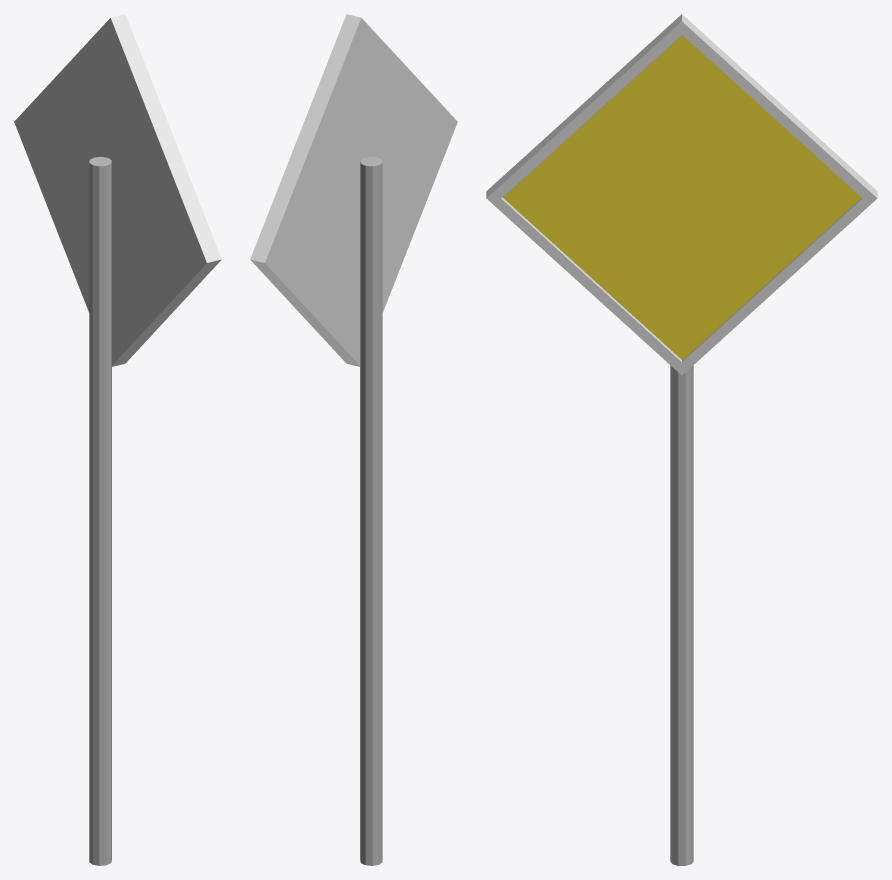
The model's file is Sign_Just_Add_Text__XD.fbx.
3 views of the same model, side by side, from view 1: azimuth 30°, elevation 25°; view 2: azimuth 150°, elevation 25°; view 3: azimuth 270°, elevation 25° (orthographic).
Visible parts, largest first — view 1: Cylinder.001; view 2: Cylinder.001; view 3: Cylinder.001.
Boxes of the visible parts, x1,y1,x2,y2 form: Cylinder.001: (14, 14, 221, 865); Cylinder.001: (250, 14, 457, 865); Cylinder.001: (486, 14, 877, 865).
Bounding box in the file's own units: 10.3 × 240 × 100.
